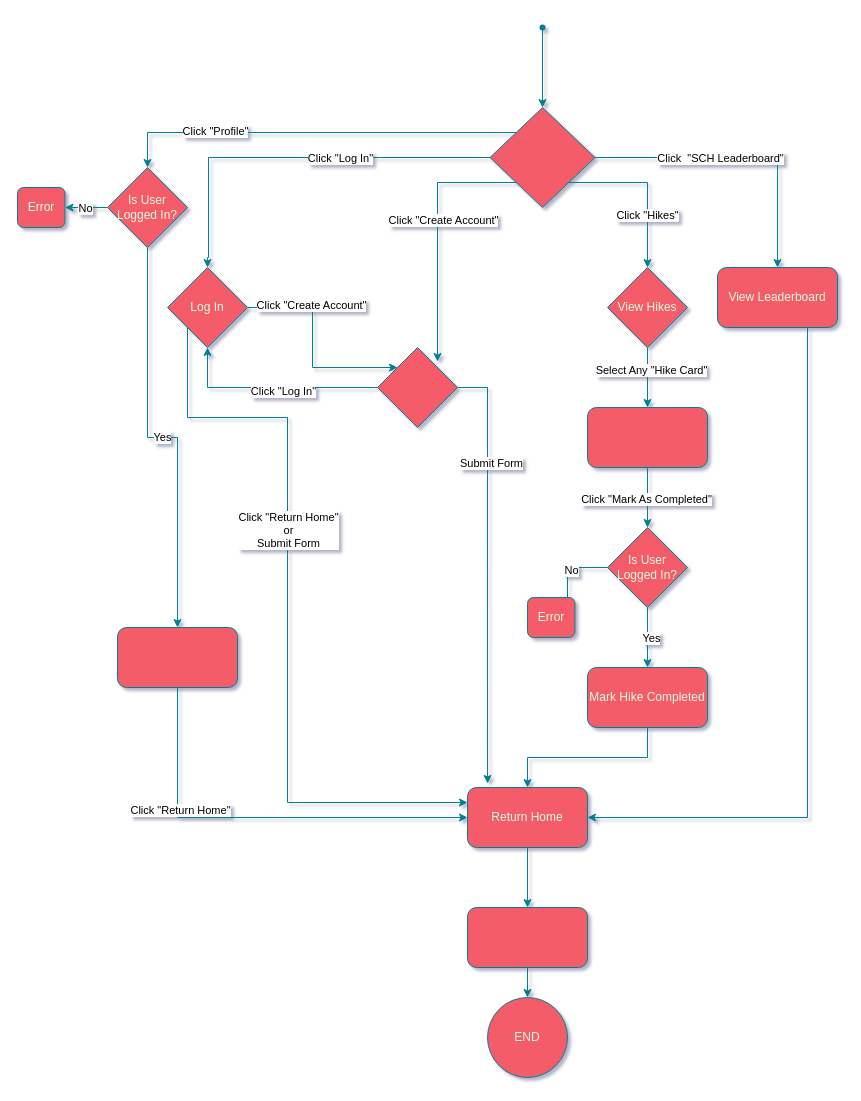
Some shapes in this 861 by 1101 pixel diagram are drawn without their labels. Each missing label, with the box of its shape:
Create Account: (376, 346, 458, 428)
Hike Details: (586, 406, 708, 468)
Home Screen: (489, 106, 595, 208)
Log Out: (466, 906, 588, 968)
View Profile: (116, 626, 238, 688)
